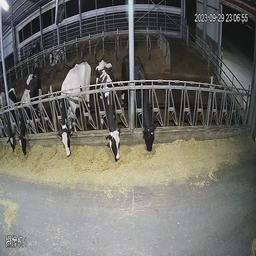cow: (119, 49, 158, 160), (53, 58, 93, 158), (93, 60, 124, 165), (15, 63, 43, 161), (4, 82, 18, 165), (45, 46, 60, 72)
